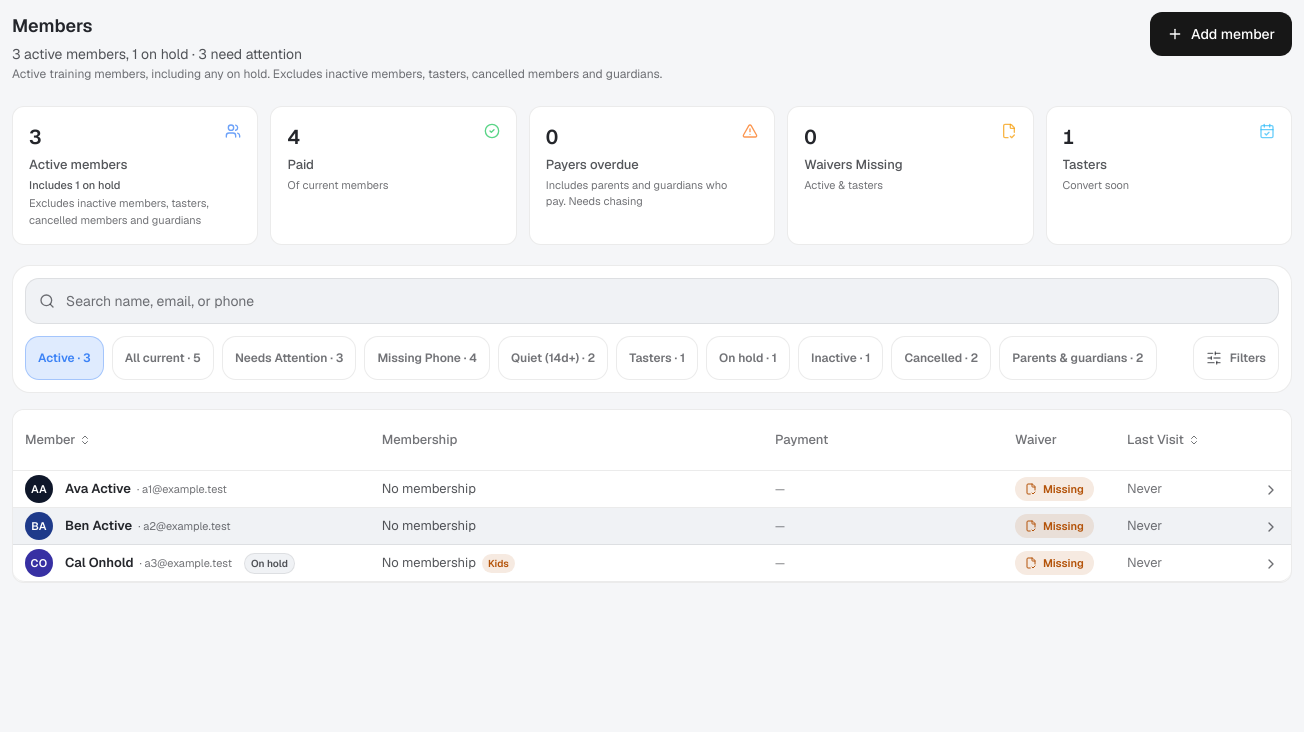
Test case: MembersList — Active drill-through and population headline (T1) › All current: the header and tile show the current count (5) and name what it includes and excludes
Click the button "All current · 5" at (163, 358), box [112,336,214,380]
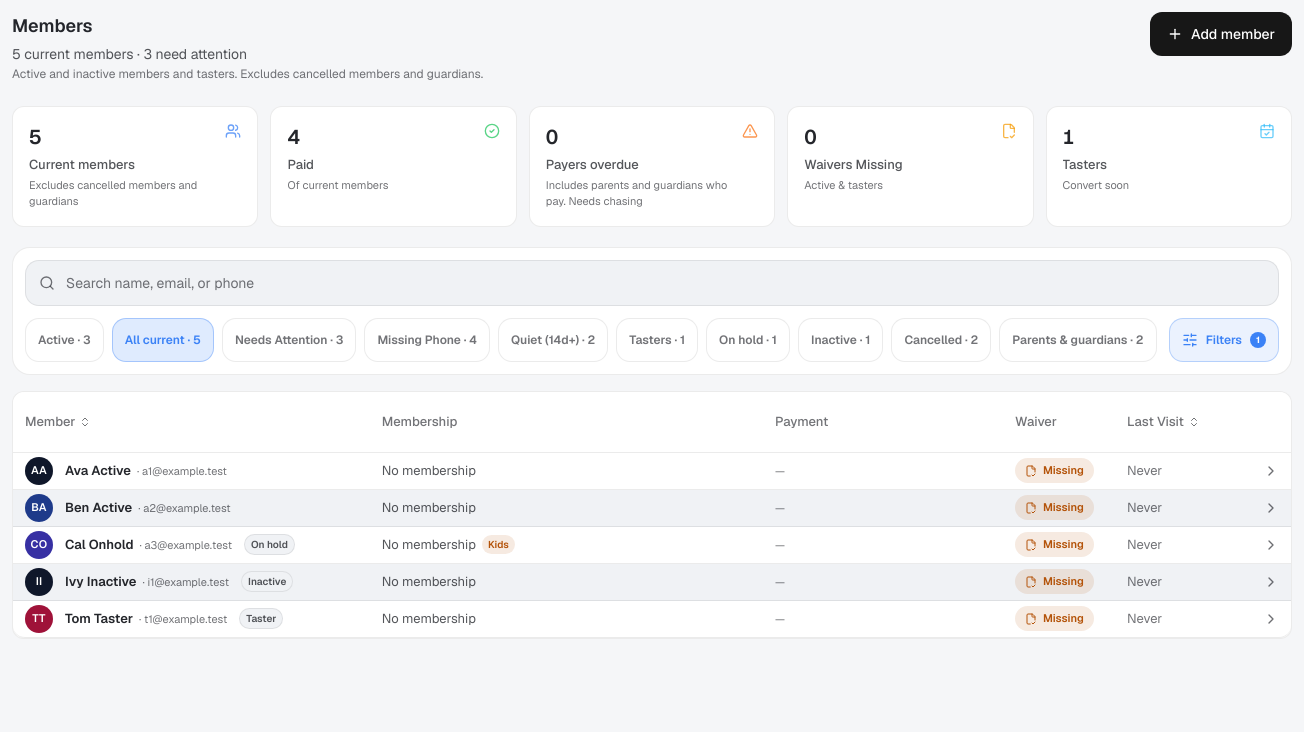
Now the text with test id "members-headline" reads "5 current members", box [12,45,134,63]
Now the text with test id "members-headline-scope" shows "Active and inactive members and tasters", box [12,66,235,82]
Now the text with test id "members-headline-scope" shows "Excludes cancelled members and guardians", box [240,66,481,82]
